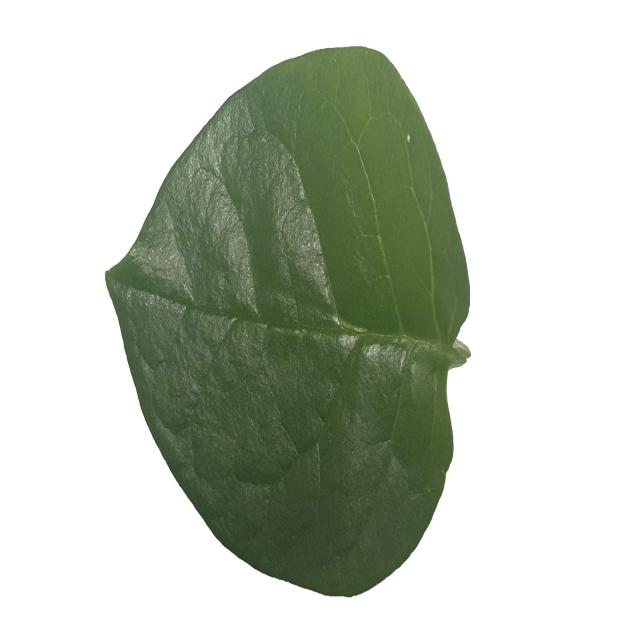Medicinal-Basale: (105, 46, 473, 596)
